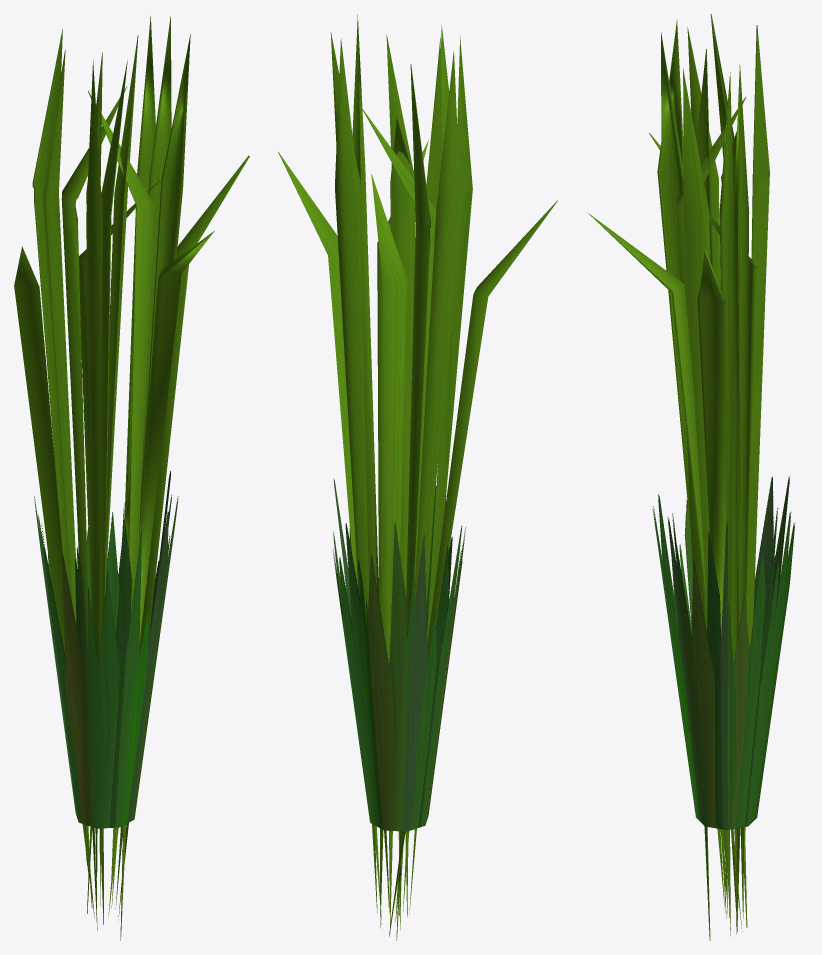
File: P_001_tall_kusa_01_01.fbx
The picture shows the model from 3 angles, left to right: view 1: azimuth 30°, elevation 25°; view 2: azimuth 150°, elevation 25°; view 3: azimuth 270°, elevation 25°; orthographic projection.
Parts seen in each view (by area): view 1: オブジェクト004; view 2: オブジェクト004; view 3: オブジェクト004.
Boxes of the visible parts, <box> form: オブジェクト004: <box>14,16,249,940</box>; オブジェクト004: <box>278,14,557,940</box>; オブジェクト004: <box>587,14,795,940</box>.
Bounding box in the file's own units: 16.17 × 54.73 × 12.2.
1 material, 1 textured.
